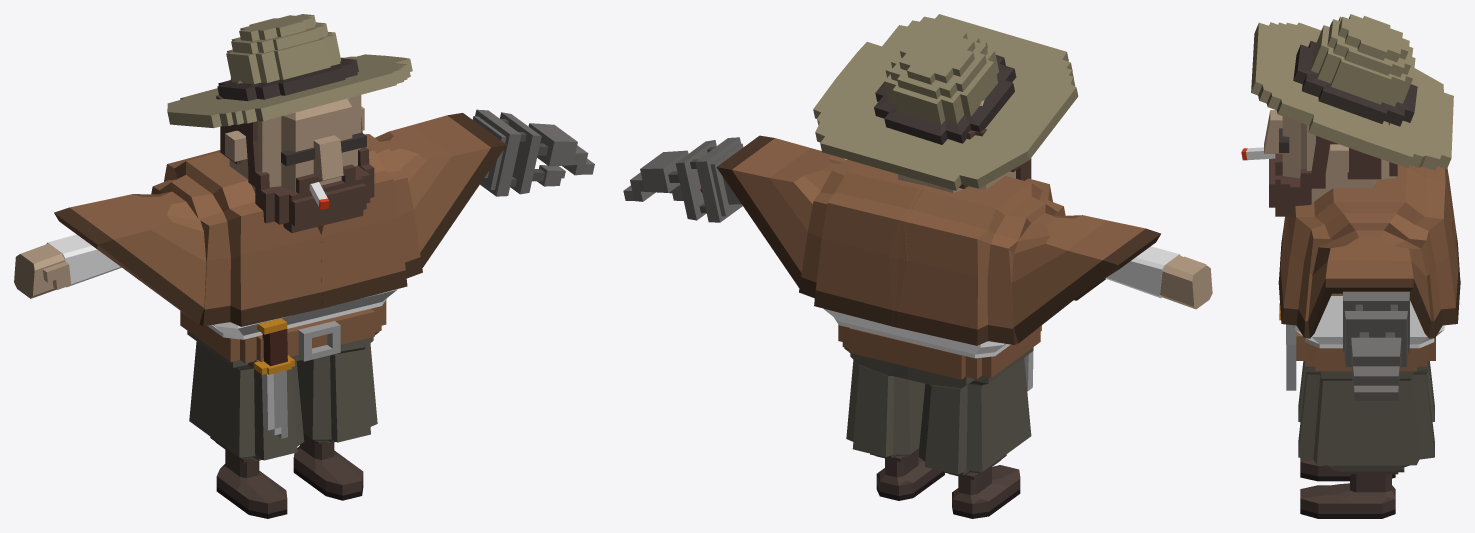
Rendered from gaucho2 tpose.fbx.
3 renders of one model, left to right at view 1: azimuth 30°, elevation 25°; view 2: azimuth 150°, elevation 25°; view 3: azimuth 270°, elevation 25°, orthographic.
Visible parts, largest first — view 1: poncho.001, Cube.005, Cube.002, leg right .001, leg left.001, torso.001, arm left.001, arm right.001, Cube.004, Cube.003, eyes.001; view 2: poncho.001, Cube.005, leg right .001, torso.001, leg left.001, arm left.001, arm right.001, Cube.002; view 3: poncho.001, Cube.005, leg left.001, Cube.002, arm left.001, torso.001, leg right .001, Cube.004, Cube.
Boxes of the visible parts, x1,y1,x2,y2 form: poncho.001: [54, 113, 506, 326]; Cube.005: [167, 14, 412, 128]; Cube.002: [216, 80, 374, 232]; leg right .001: [189, 341, 304, 518]; leg left.001: [293, 343, 377, 500]; torso.001: [180, 289, 397, 370]; arm left.001: [472, 109, 594, 196]; arm right.001: [14, 234, 121, 298]; Cube.004: [253, 318, 294, 438]; Cube.003: [298, 321, 340, 361]; eyes.001: [281, 132, 366, 166]; poncho.001: [716, 135, 1160, 345]; Cube.005: [813, 14, 1078, 190]; leg right .001: [918, 358, 1031, 518]; torso.001: [824, 309, 1040, 388]; leg left.001: [846, 360, 944, 500]; arm left.001: [623, 137, 743, 222]; arm right.001: [1105, 246, 1212, 309]; Cube.002: [898, 100, 1031, 192]; poncho.001: [1278, 165, 1460, 338]; Cube.005: [1251, 14, 1453, 170]; leg left.001: [1298, 373, 1434, 518]; Cube.002: [1264, 110, 1397, 216]; arm left.001: [1343, 291, 1409, 400]; torso.001: [1295, 293, 1444, 380]; leg right .001: [1298, 361, 1434, 481]; Cube.004: [1279, 303, 1296, 390]; Cube: [1241, 147, 1275, 160].
Size of the model in its own units: 64.91 by 51.02 by 21.65.
